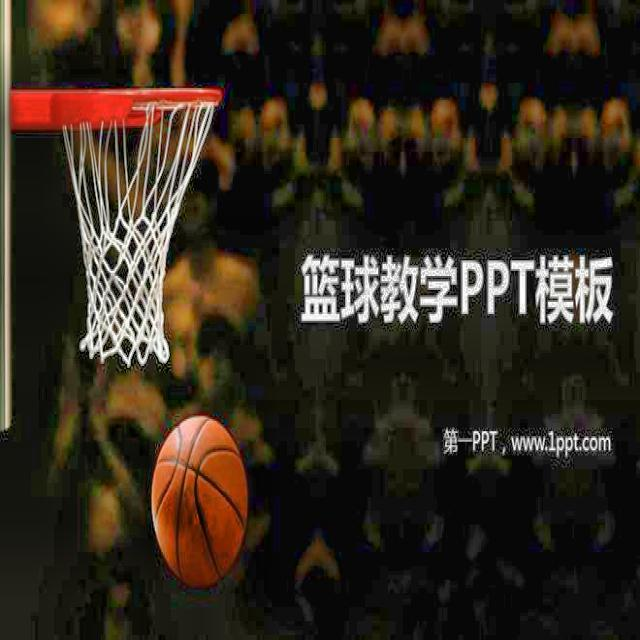board: (152, 415, 248, 589)
rim: (54, 86, 222, 369)
